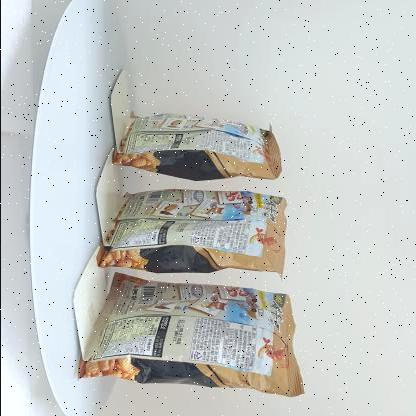Others: (66, 95, 310, 402)
